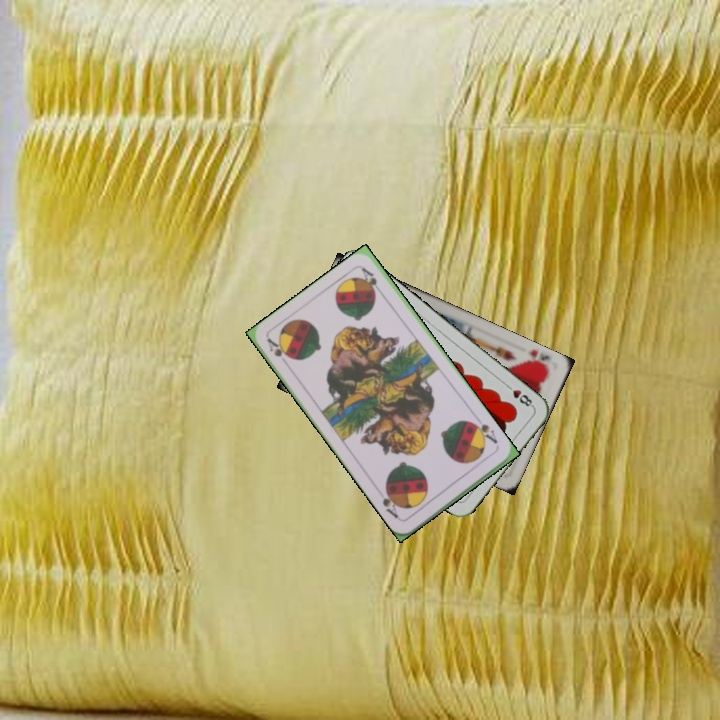H8: (502, 380, 536, 410)
HK: (523, 345, 552, 366)
SA: (263, 334, 293, 370), (468, 414, 500, 446)
